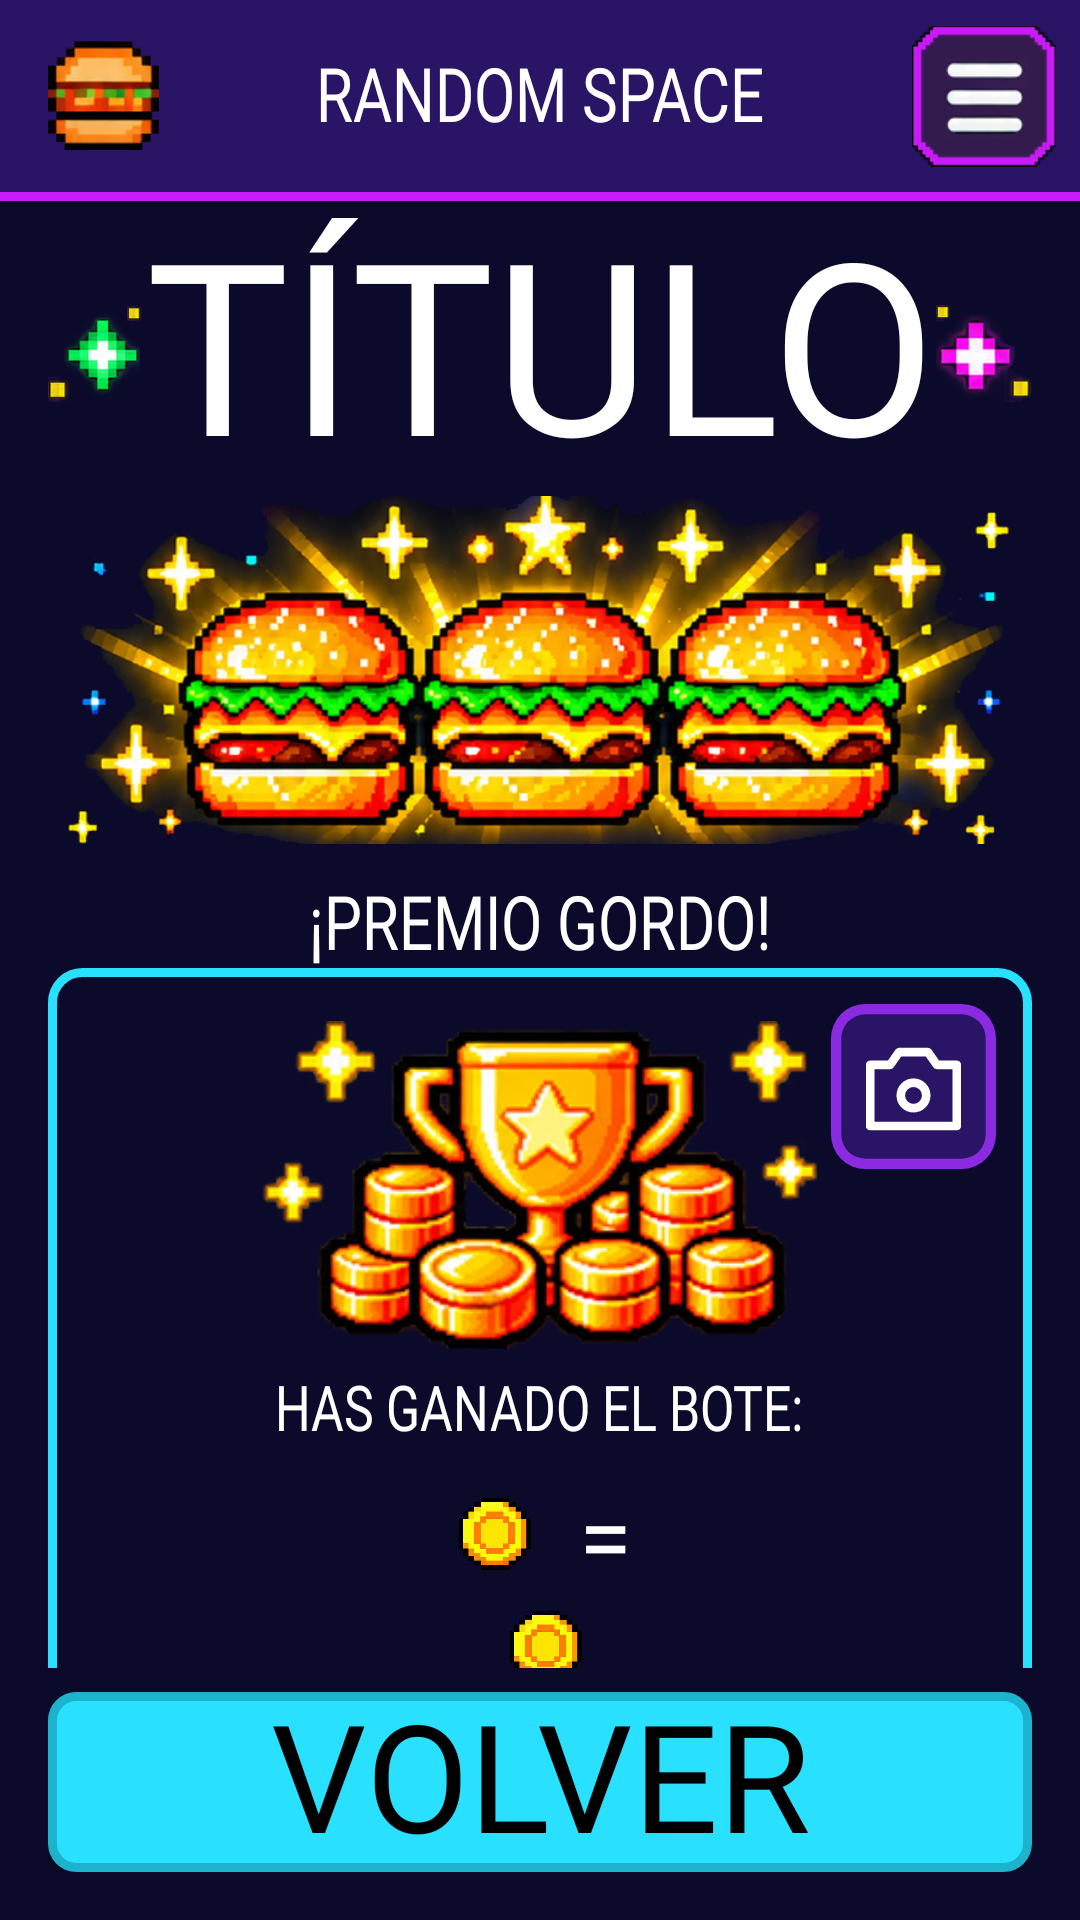

Screen size 1080px×1920px. Icon name, then its box in pixels as (x1, y1, x2, y2):
Abrir menú: (912, 26, 1056, 167)
burger: (48, 41, 159, 150)
estrellas der: (936, 305, 1031, 398)
estrellas izq: (48, 306, 141, 401)
Guardar captura de la victoria: (831, 1004, 996, 1169)
